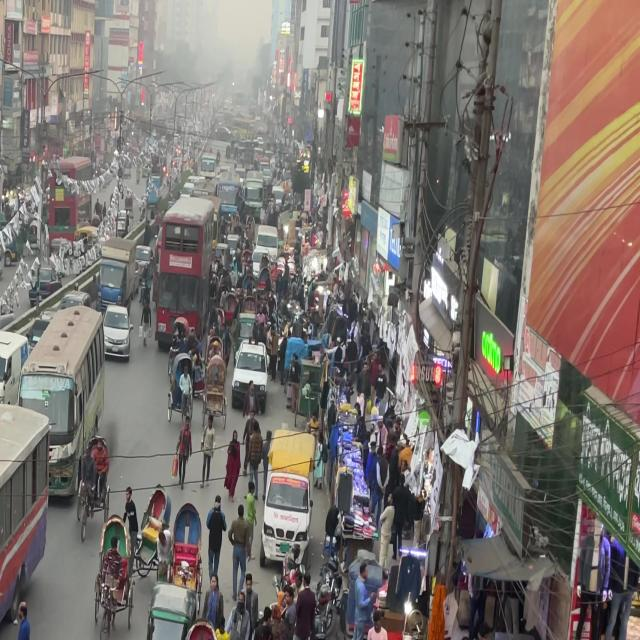bus: (16, 306, 106, 472), (0, 404, 54, 640), (151, 199, 218, 353), (45, 185, 86, 242)
car: (261, 427, 320, 563), (230, 337, 272, 412), (0, 330, 32, 409), (100, 304, 132, 359)
rickshaw: (138, 576, 186, 640)
van: (94, 232, 134, 302)
